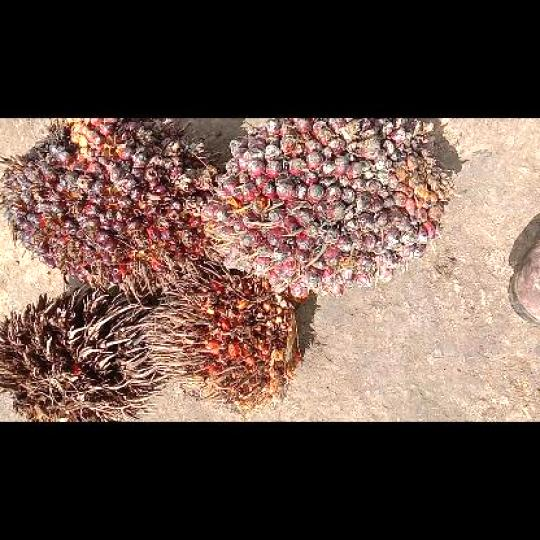kurang masak: (199, 117, 460, 300)
masak: (0, 118, 223, 297)
terlalu masak: (143, 264, 306, 412)
